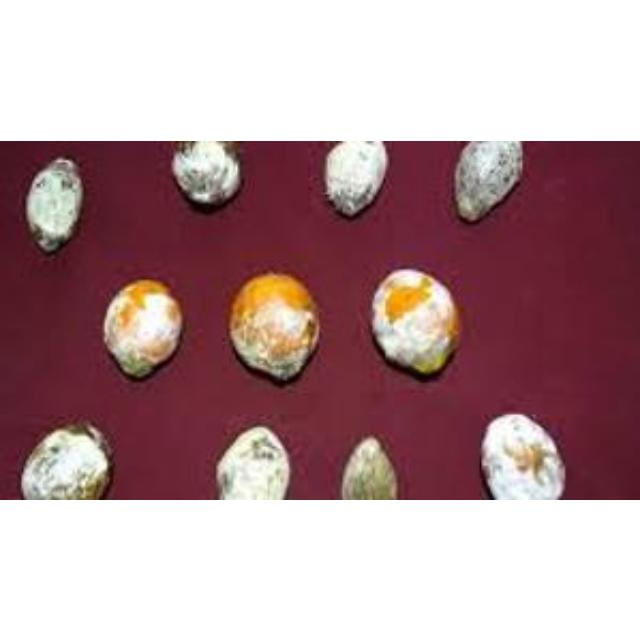damaged: (228, 270, 322, 380), (371, 266, 462, 374), (100, 276, 184, 378), (479, 412, 566, 500), (19, 422, 112, 498), (24, 154, 84, 252), (453, 141, 523, 221), (216, 426, 290, 498), (322, 140, 388, 216), (172, 140, 244, 206), (340, 435, 400, 499)
